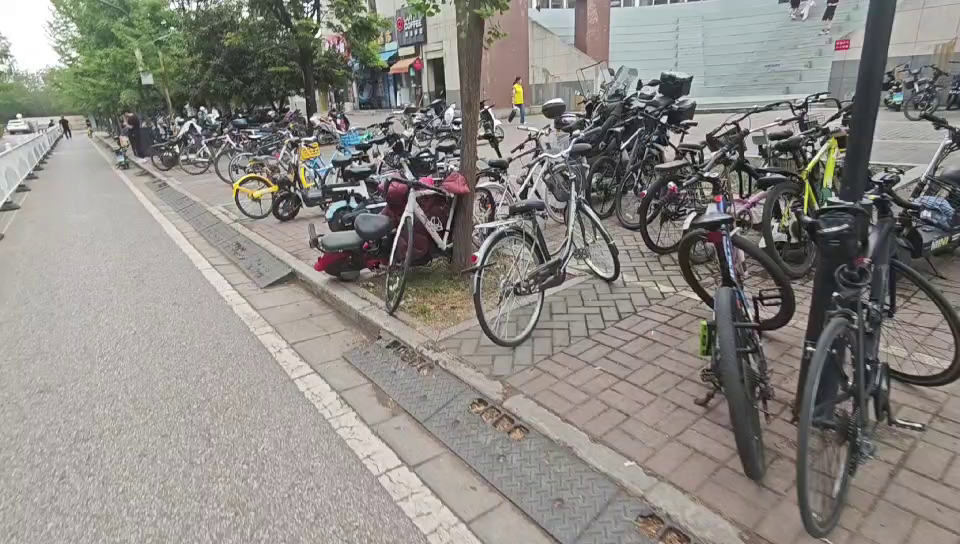others: (799, 183, 954, 544), (648, 147, 782, 492), (480, 157, 603, 347), (386, 169, 515, 296), (767, 103, 853, 273)
shared_bike_haluo: (295, 117, 365, 187)
shared_bike_meituan: (230, 130, 310, 212)
